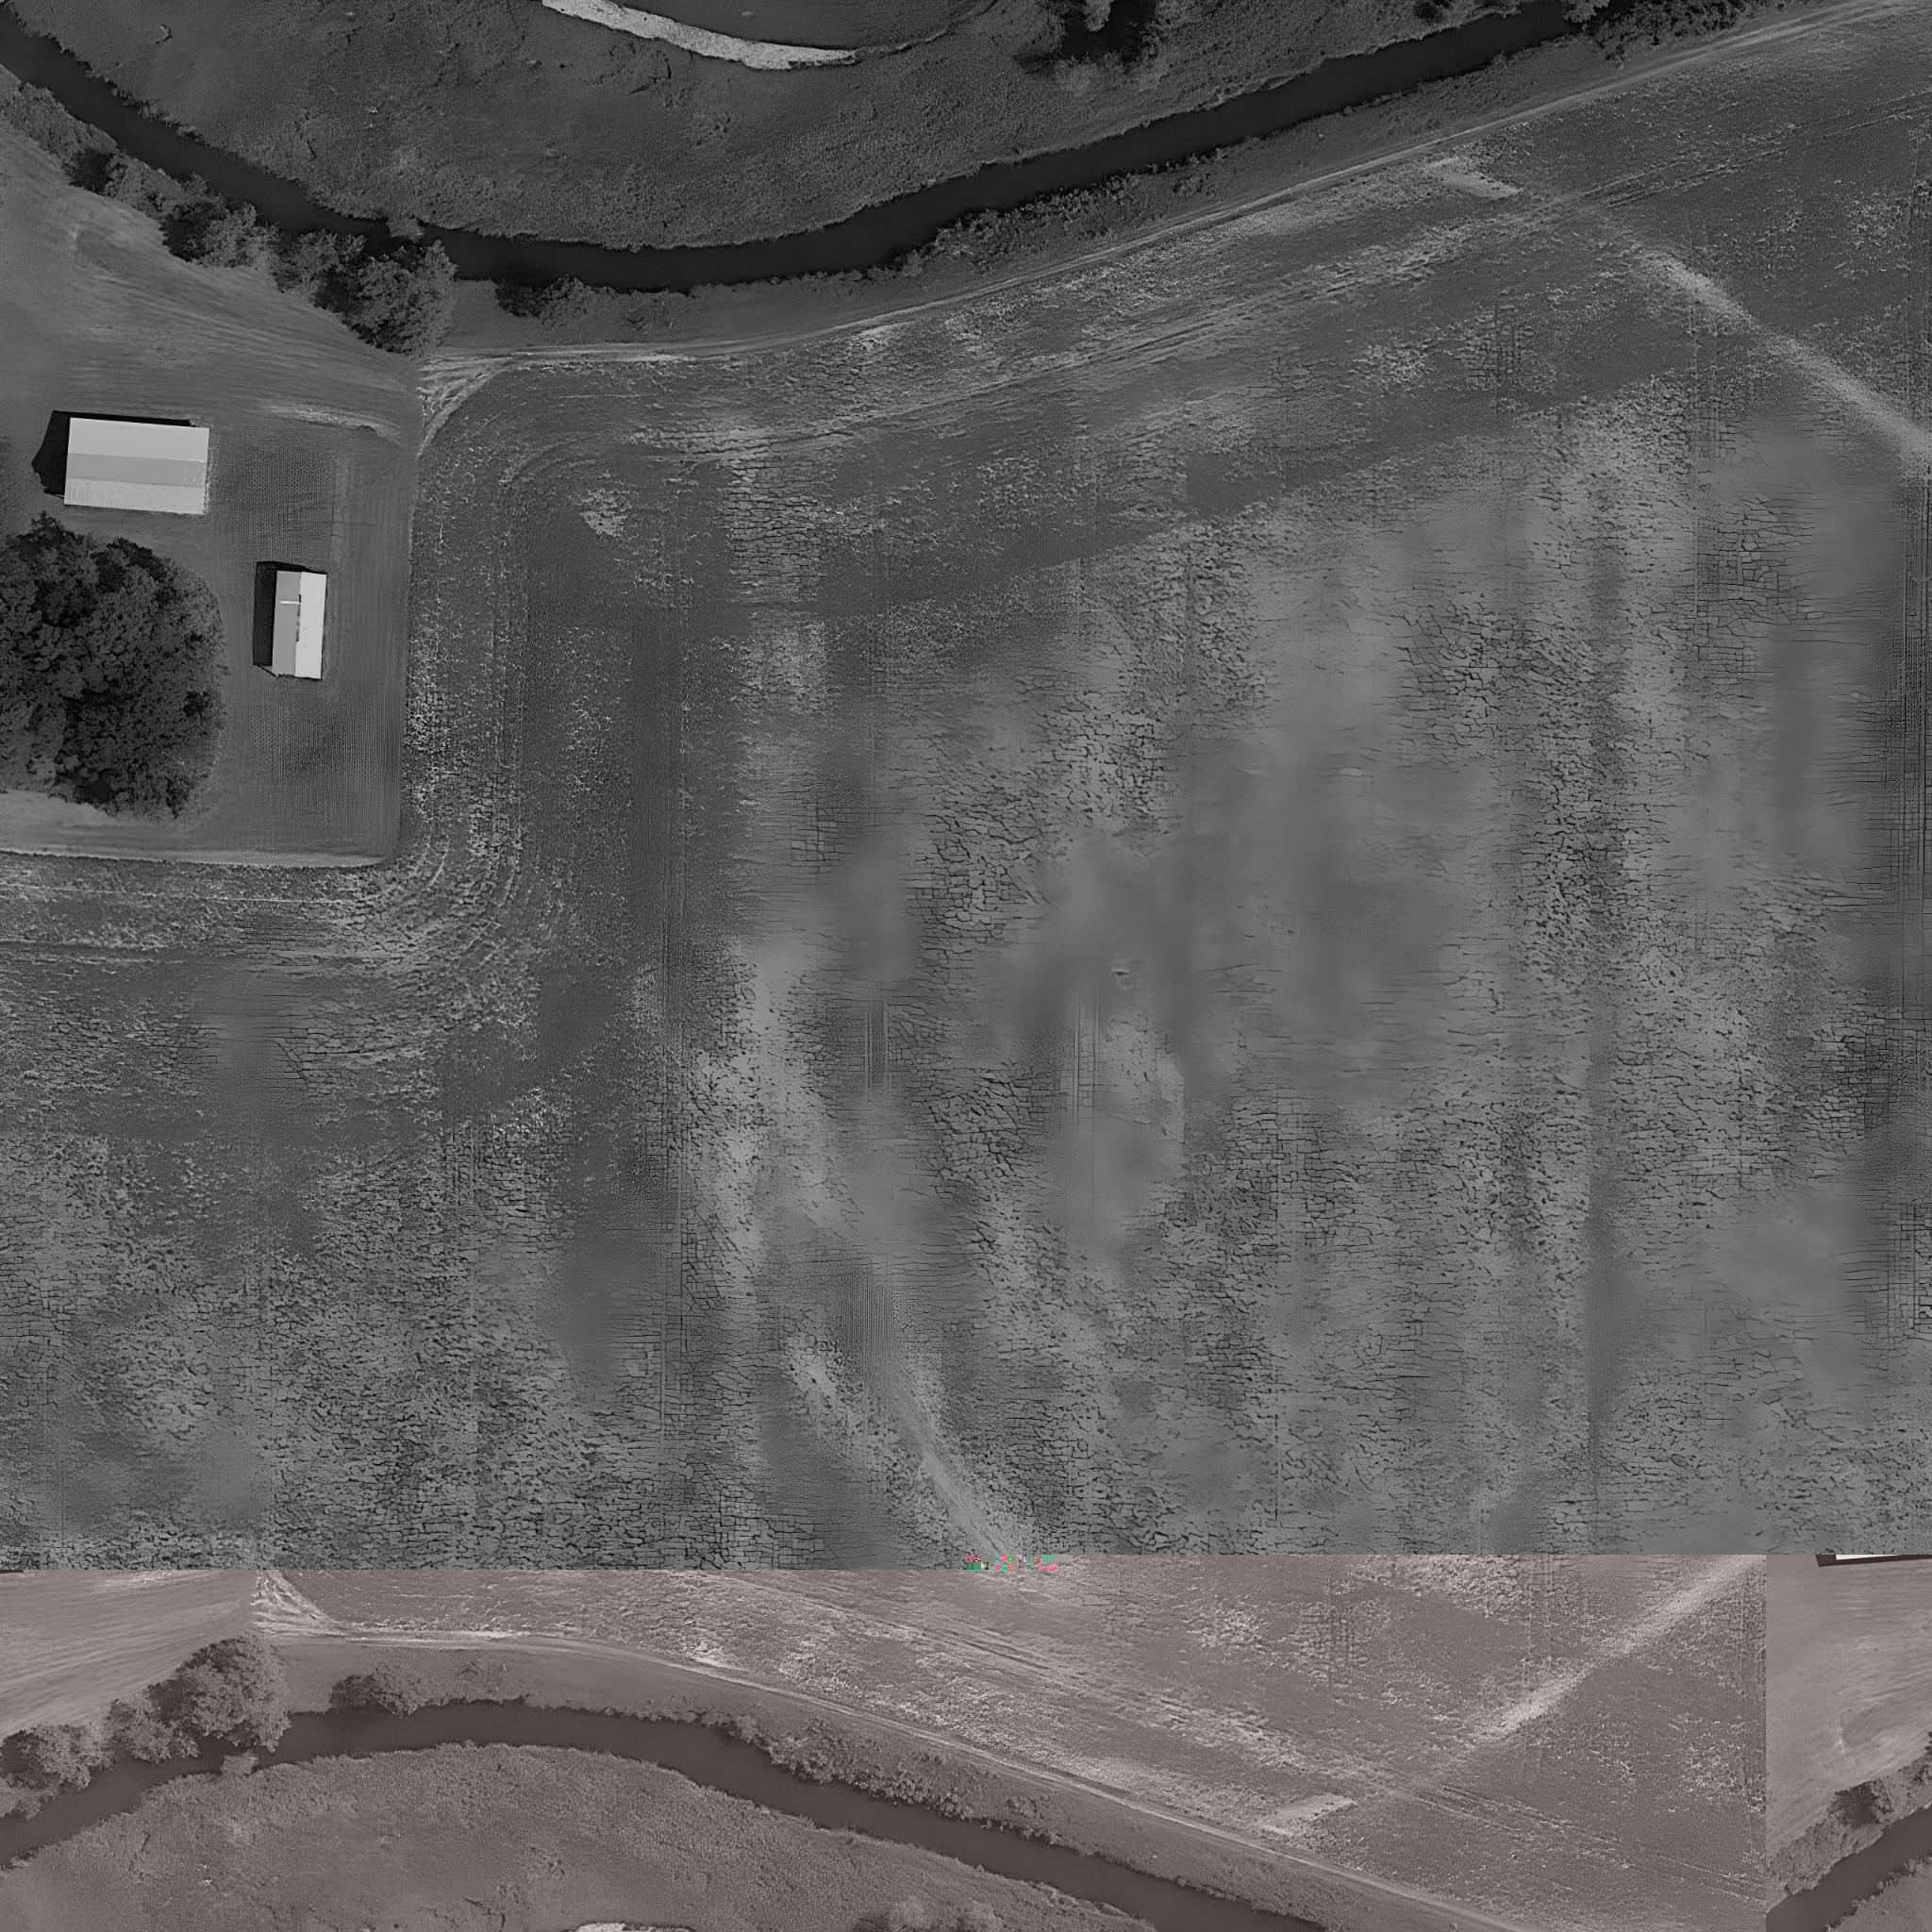Garage: (272, 570, 327, 678)
House: (64, 418, 211, 515)
